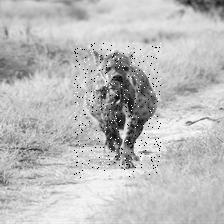hyena: (73, 43, 160, 178)
